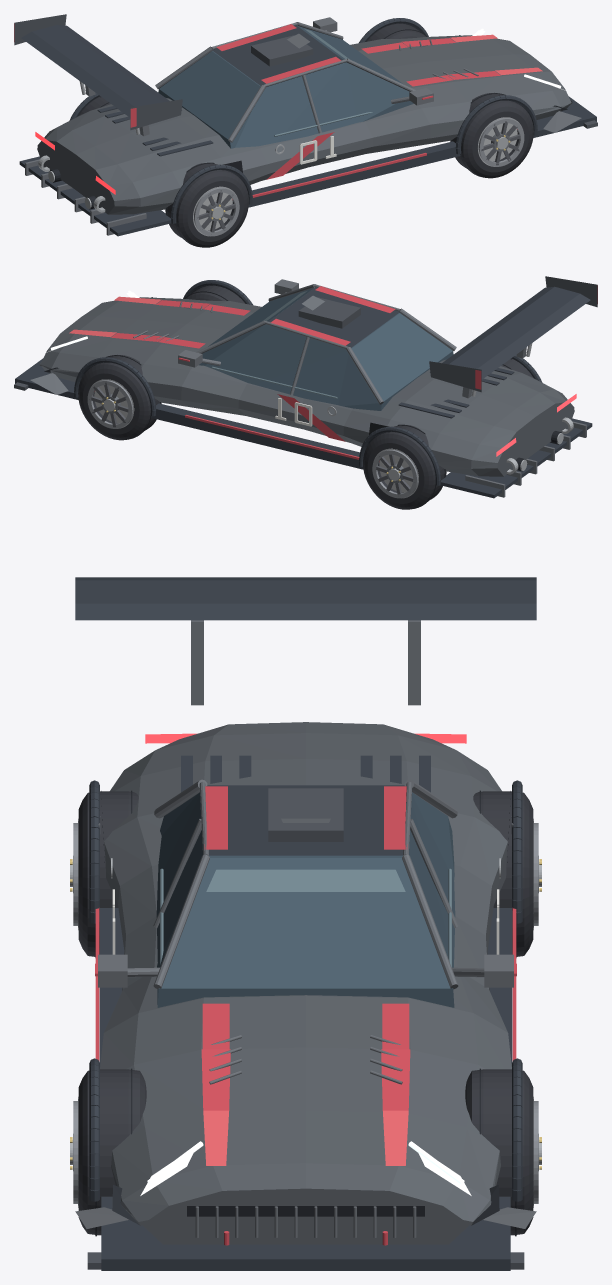
Rendered from gt_racecar_3d.glb.
3 renders of one model, top to bottom at view 1: azimuth 30°, elevation 25°; view 2: azimuth 150°, elevation 25°; view 3: azimuth 270°, elevation 25°, orthographic. The views are drawn at different scales.
Visible parts, largest first — view 1: body, carbon, glass, rubber, carbonlight, red, carbon2, rim, wheel, metal, black, brake (+3 smaller); view 2: body, carbon, glass, rubber, carbonlight, red, carbon2, rim, wheel, metal, black, brake (+3 smaller); view 3: body, carbon, glass, rubber, carbonlight, red, glass_light, carbon2, black, brightred, rim, headlight.
Boxes of the visible parts, x1,y1,x2,y2 form: body: [37, 35, 572, 214]; carbon: [19, 18, 596, 236]; glass: [158, 25, 413, 148]; rubber: [78, 23, 533, 247]; carbonlight: [25, 17, 581, 235]; red: [14, 23, 517, 199]; carbon2: [14, 14, 597, 130]; rim: [194, 118, 524, 236]; wheel: [197, 121, 520, 234]; metal: [38, 81, 522, 236]; black: [50, 23, 567, 246]; brake: [199, 123, 517, 230]; body: [39, 297, 574, 476]; carbon: [15, 280, 592, 498]; glass: [199, 287, 453, 410]; rubber: [78, 285, 533, 509]; carbonlight: [30, 279, 586, 497]; red: [94, 285, 597, 461]; carbon2: [14, 276, 597, 392]; rim: [87, 380, 417, 498]; wheel: [89, 382, 414, 494]; metal: [89, 343, 573, 498]; black: [44, 285, 561, 508]; brake: [94, 385, 412, 492]; body: [100, 722, 511, 1244]; carbon: [75, 577, 536, 1270]; glass: [156, 792, 455, 1007]; rubber: [78, 791, 533, 1235]; carbonlight: [73, 620, 538, 1237]; red: [95, 786, 516, 1245]; glass_light: [160, 868, 451, 967]; carbon2: [87, 788, 524, 1269]; black: [95, 790, 516, 1236]; brightred: [203, 1110, 408, 1165]; rim: [73, 823, 538, 1203]; headlight: [140, 1141, 471, 1195].
Bounding box in the file's own units: 5.3 × 1.73 × 2.26.
